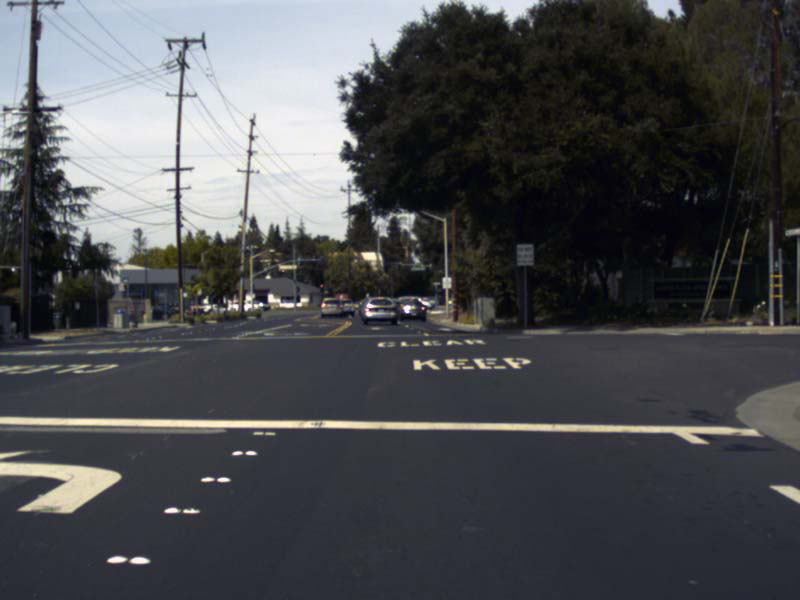Red: (318, 283, 324, 293)
